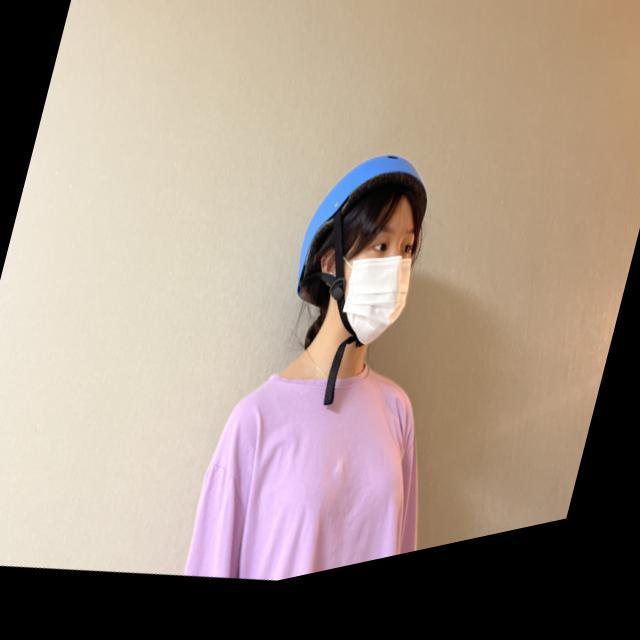Helmet: (293, 156, 429, 352)
